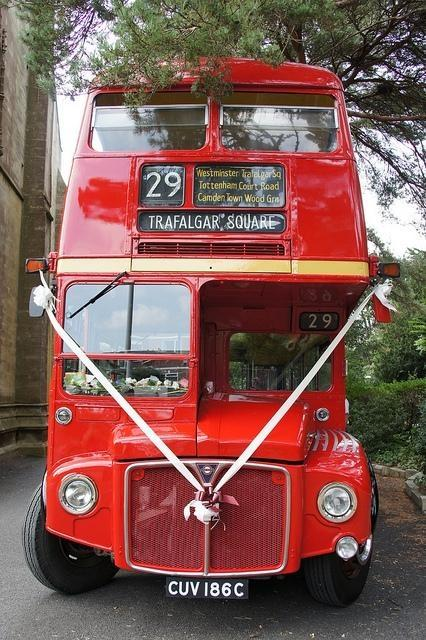bus: (17, 54, 398, 616)
